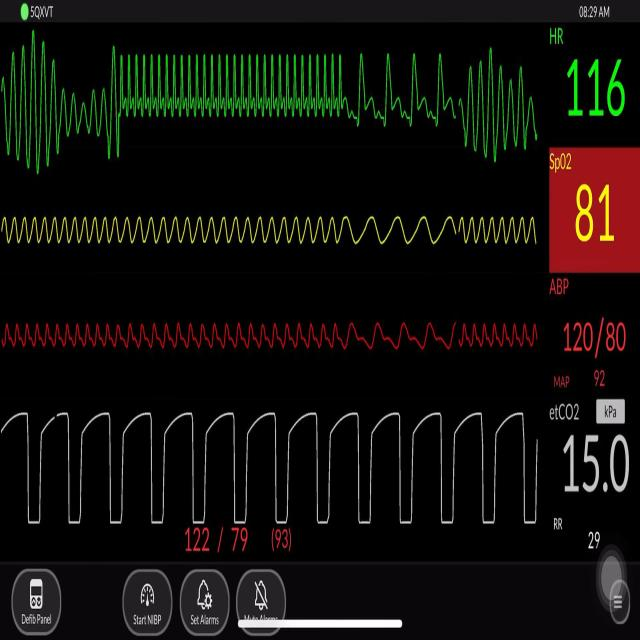danger: (120, 33, 350, 134), (5, 29, 105, 180)
